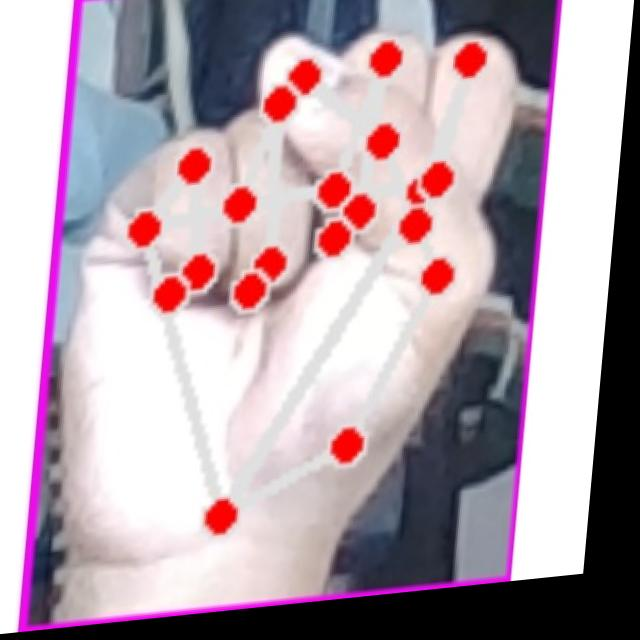S: (58, 16, 539, 577)
